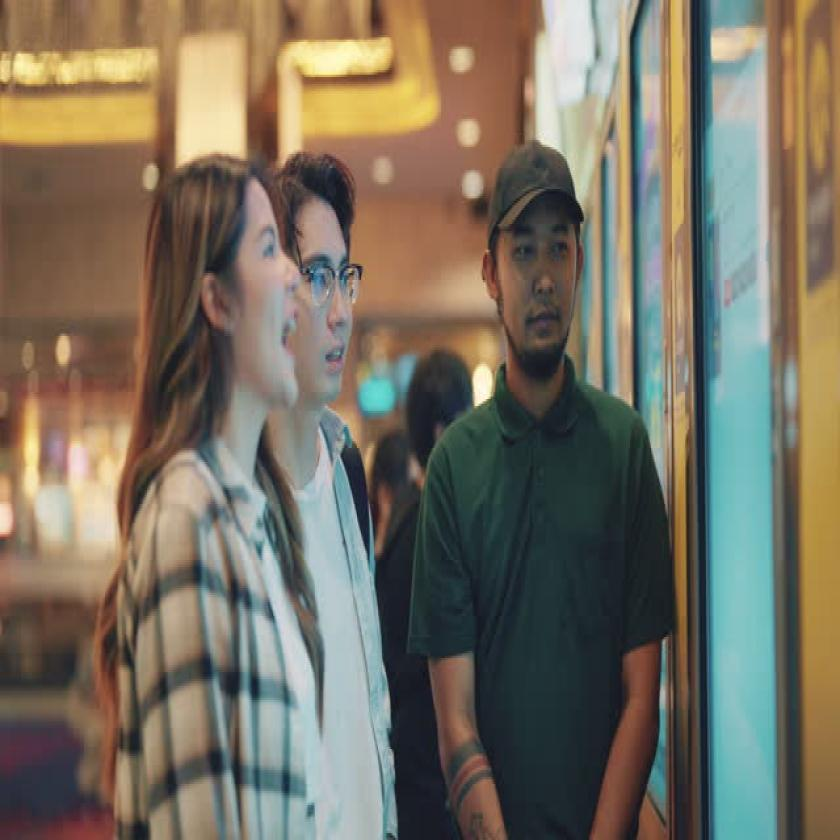Sin_casco: (144, 140, 308, 449), (263, 131, 360, 430)
